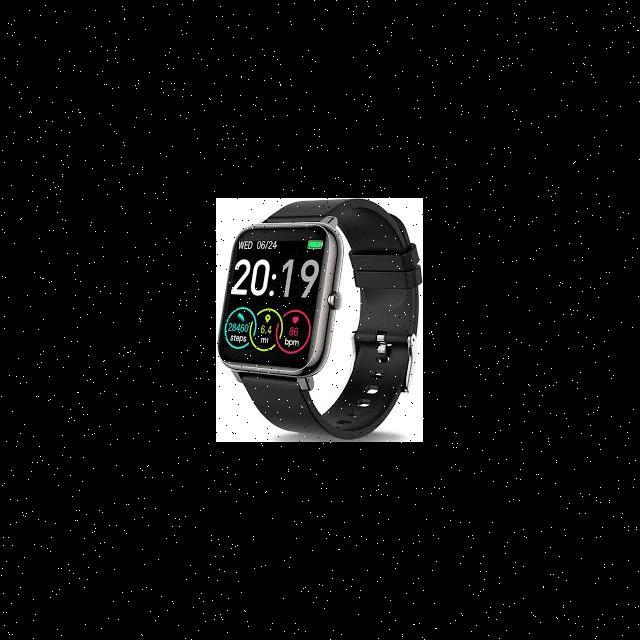watch: (220, 205, 425, 433)
